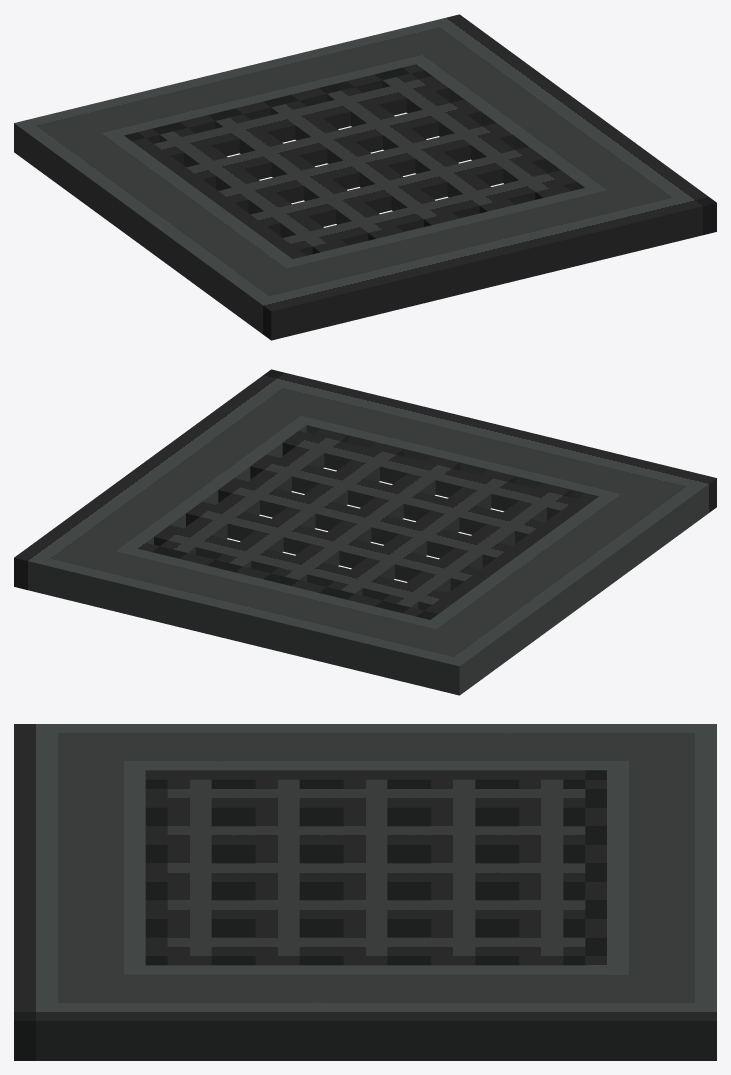
File: CMU3DStrataCatwalk.glb
3 views of the same model, one above another, from view 1: azimuth 30°, elevation 25°; view 2: azimuth 150°, elevation 25°; view 3: azimuth 270°, elevation 25° (orthographic). The views are drawn at different scales.
Parts seen in each view (by area): view 1: south perimeter, north perimeter, west perimeter, east perimeter, open grate web 18, open grate web 24, open grate web 6, open grate web 12, open grate web 30, north inner lip, east inner lip, south inner lip (+21 smaller); view 2: north perimeter, south perimeter, west perimeter, east perimeter, open grate web 18, open grate web 12, open grate web 30, open grate web 24, open grate web 6, south inner lip, east inner lip, north inner lip (+21 smaller); view 3: east perimeter, north perimeter, south perimeter, west perimeter, open grate web 6, open grate web 12, open grate web 24, open grate web 30, open grate web 18, west inner lip, north inner lip, south inner lip (+31 smaller).
Boxes of the visible parts, <box> form: south perimeter: <box>231,173,716,340</box>; north perimeter: <box>14,14,499,181</box>; west perimeter: <box>54,135,299,310</box>; east perimeter: <box>430,44,676,190</box>; open grate web 18: <box>218,123,512,212</box>; open grate web 24: <box>250,146,544,235</box>; open grate web 6: <box>154,76,448,165</box>; open grate web 12: <box>186,99,480,188</box>; open grate web 30: <box>283,170,576,255</box>; north inner lip: <box>124,61,437,143</box>; east inner lip: <box>424,67,598,189</box>; south inner lip: <box>293,184,606,264</box>; north perimeter: <box>14,528,499,695</box>; south perimeter: <box>231,369,716,536</box>; west perimeter: <box>431,490,676,665</box>; east perimeter: <box>54,399,300,545</box>; open grate web 18: <box>218,478,512,567</box>; open grate web 12: <box>186,501,480,590</box>; open grate web 30: <box>282,431,576,520</box>; open grate web 24: <box>250,454,544,543</box>; open grate web 6: <box>154,525,447,610</box>; south inner lip: <box>293,416,606,498</box>; east inner lip: <box>132,422,306,544</box>; north inner lip: <box>124,539,437,619</box>; east perimeter: <box>124,974,606,1060</box>; north perimeter: <box>607,724,716,1060</box>; south perimeter: <box>14,724,123,1060</box>; west perimeter: <box>124,724,606,770</box>; open grate web 6: <box>519,779,563,965</box>; open grate web 12: <box>431,779,475,965</box>; open grate web 24: <box>255,779,299,965</box>; open grate web 30: <box>167,779,211,965</box>; open grate web 18: <box>343,779,387,965</box>; west inner lip: <box>145,770,585,788</box>; north inner lip: <box>585,770,606,974</box>; south inner lip: <box>124,770,145,974</box>.
Size of the model in its own units: 1 by 0.0625 by 1.
Materials: 12 (12 with a texture image).
